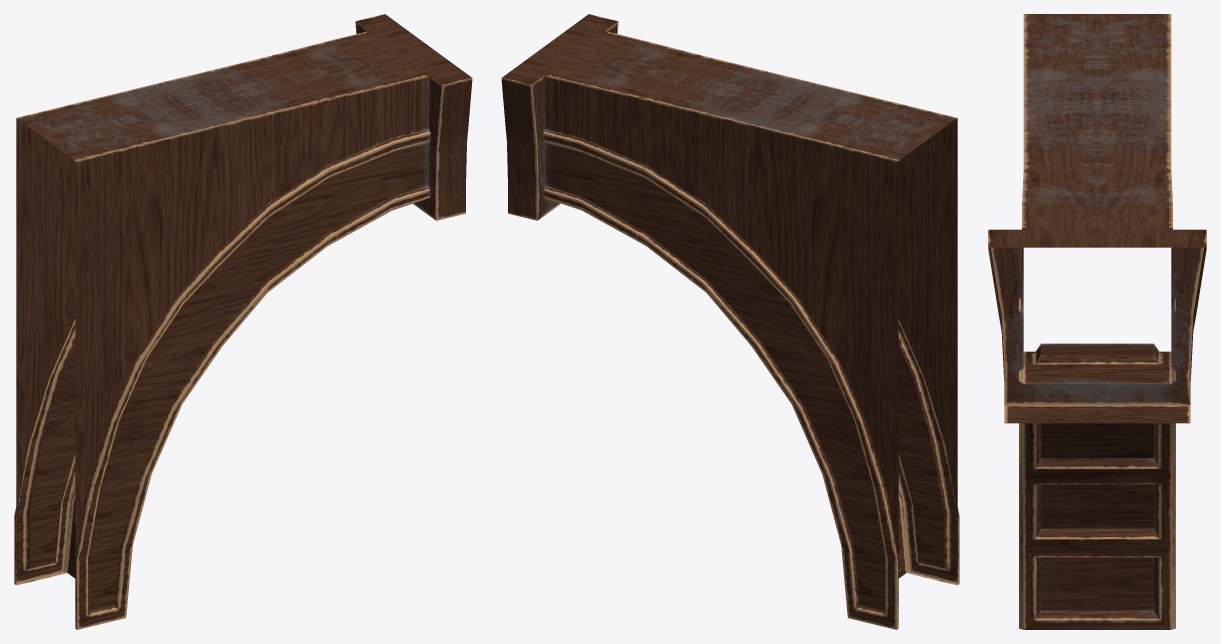
The model's file is ST_InteriorWall_Valve_01.fbx.
3 views of the same model, side by side, from view 1: azimuth 30°, elevation 25°; view 2: azimuth 150°, elevation 25°; view 3: azimuth 270°, elevation 25° (orthographic). The views are drawn at different scales.
Visible parts, largest first — view 1: ST_InteriorWall_Valve_01; view 2: ST_InteriorWall_Valve_01; view 3: ST_InteriorWall_Valve_01.
Boxes of the visible parts, bbox=[...] form: ST_InteriorWall_Valve_01: bbox=[14, 14, 472, 629]; ST_InteriorWall_Valve_01: bbox=[501, 14, 959, 629]; ST_InteriorWall_Valve_01: bbox=[988, 14, 1206, 629].
Bounding box in the file's own units: 150 × 175 × 59.33.
1 material, 1 textured.
